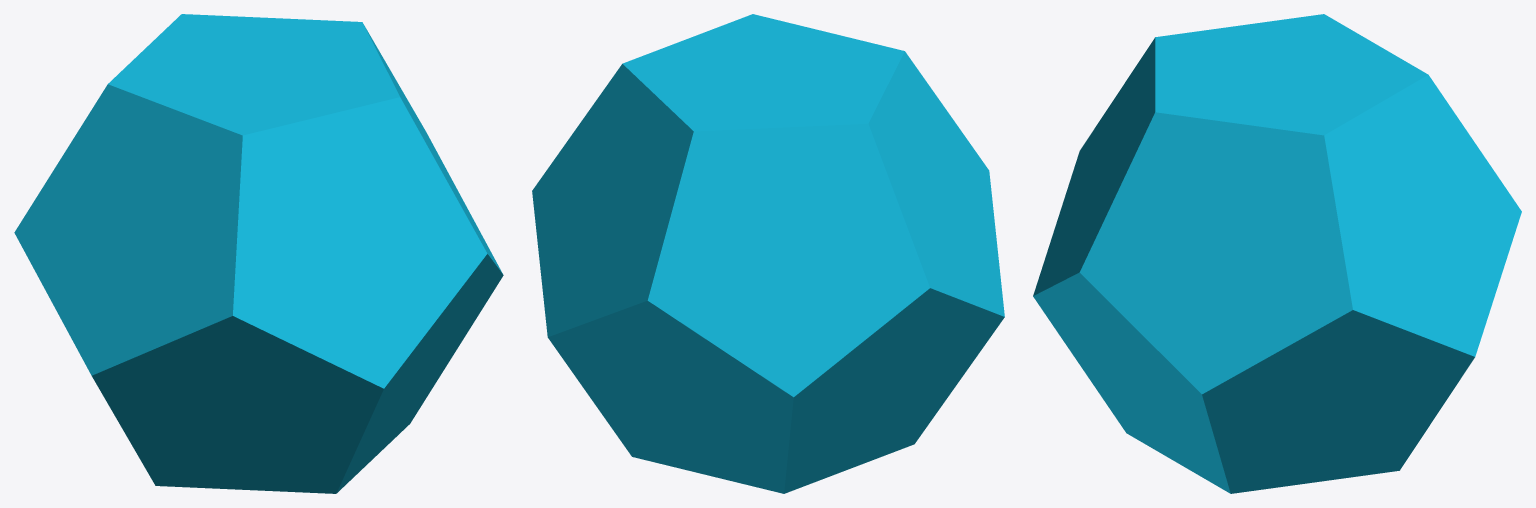
File: dodecahedron.gltf
3 views of the same model, side by side, from view 1: azimuth 30°, elevation 25°; view 2: azimuth 150°, elevation 25°; view 3: azimuth 270°, elevation 25° (orthographic). The views are drawn at different scales.
Parts seen in each view (by area): view 1: GD_mesh.001; view 2: GD_mesh.001; view 3: GD_mesh.001.
Boxes of the visible parts, bbox=[...] form: GD_mesh.001: bbox=[14, 14, 503, 493]; GD_mesh.001: bbox=[532, 14, 1004, 493]; GD_mesh.001: bbox=[1033, 14, 1521, 493].
Size of the model in its own units: 1.87 by 1.59 by 1.96.
